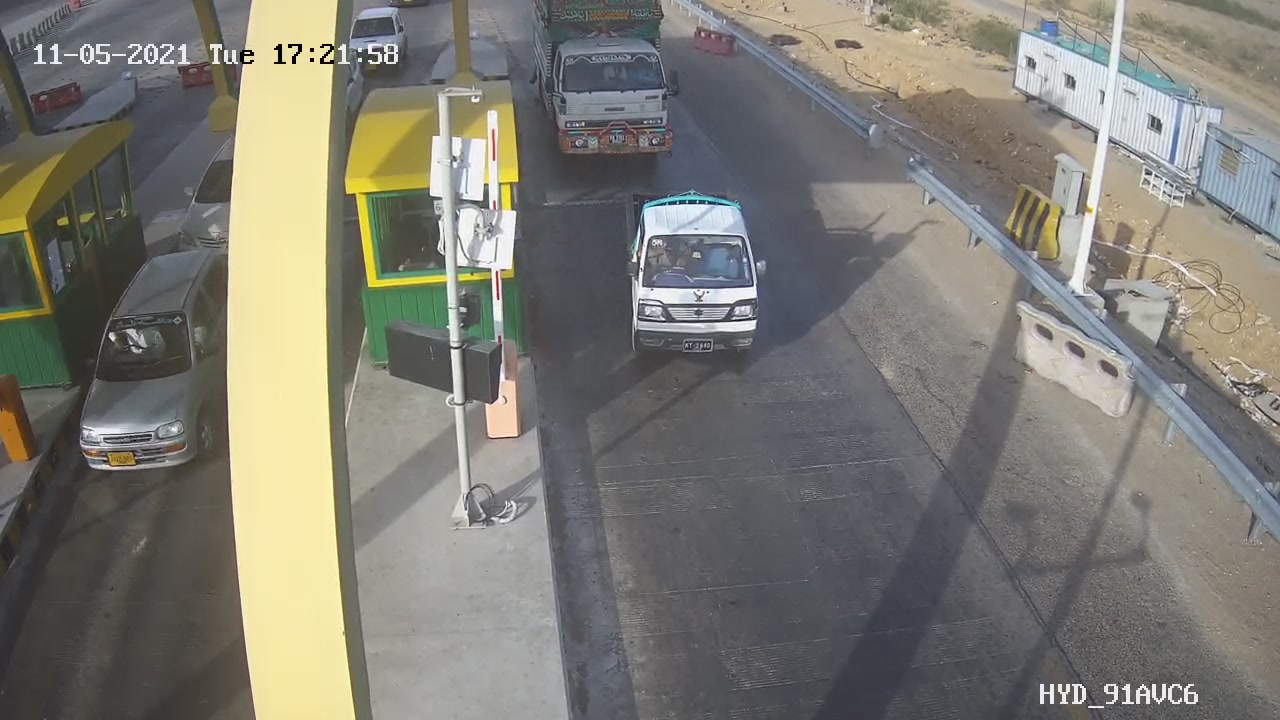F1: (601, 170, 787, 381)
